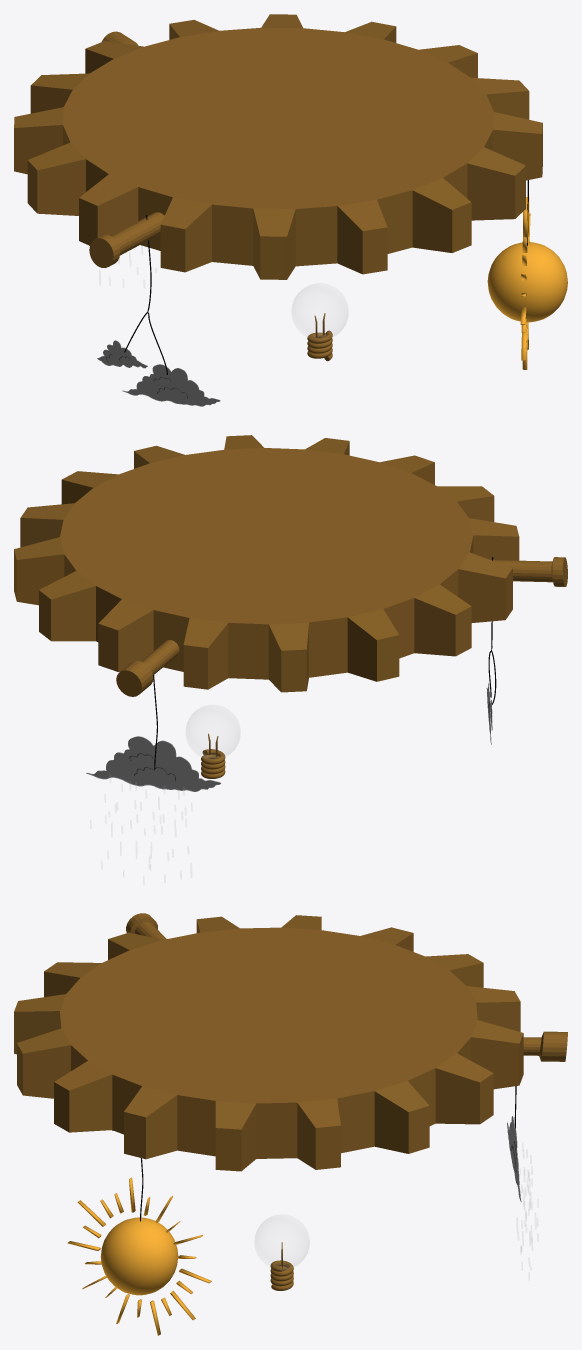
Rendered from light_bulb_crank.glb.
The picture shows the model from 3 angles, top to bottom: view 1: azimuth 30°, elevation 25°; view 2: azimuth 150°, elevation 25°; view 3: azimuth 270°, elevation 25°; orthographic projection. The views are drawn at different scales.
Parts seen in each view (by area): view 1: crank, Clear, Clouds, bulb, bulbHolder; view 2: crank, Rain, bulb, bulbHolder; view 3: crank, Clear, bulb, bulbHolder, raindrops.
Boxes of the visible parts, x1,y1,x2,y2 form: crank: [14, 14, 542, 279]; Clear: [487, 197, 567, 369]; Clouds: [97, 340, 220, 406]; bulb: [292, 283, 347, 337]; bulbHolder: [307, 330, 332, 361]; crank: [14, 435, 567, 696]; Rain: [86, 736, 220, 791]; bulb: [186, 705, 239, 758]; bulbHolder: [201, 749, 225, 778]; crank: [14, 913, 567, 1171]; Clear: [67, 1177, 211, 1335]; bulb: [255, 1215, 309, 1269]; bulbHolder: [270, 1260, 293, 1290]; raindrops: [517, 1143, 538, 1280].
Size of the model in its own units: 35.31 by 18.8 by 36.8.
